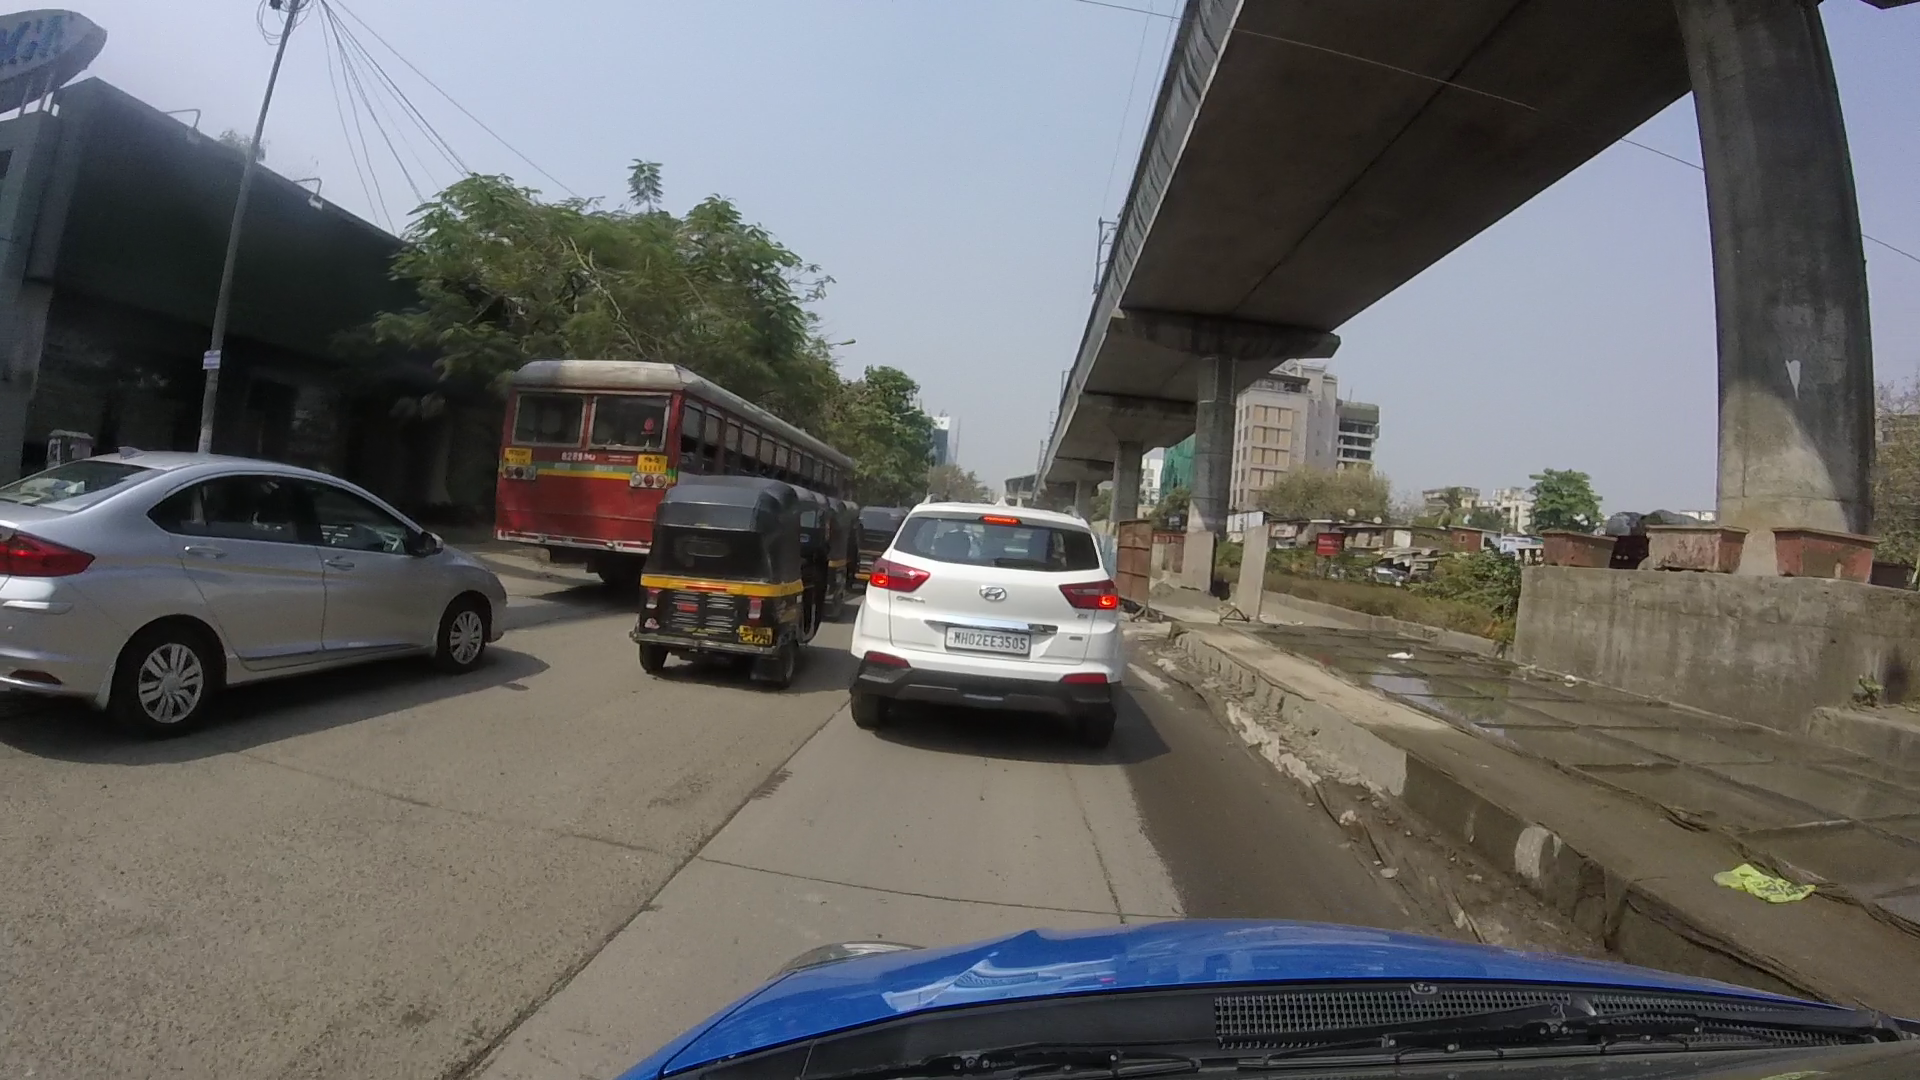bus: (508, 357, 855, 560)
car: (3, 448, 513, 695), (862, 504, 1113, 742)
rickshaw: (634, 469, 804, 686)
